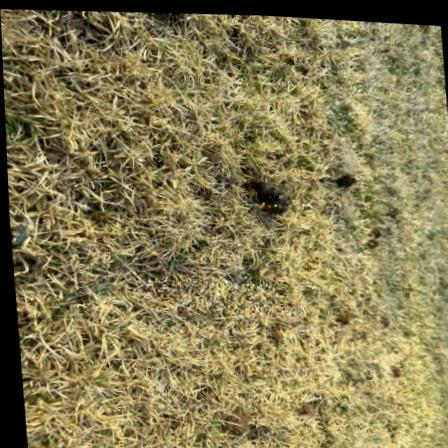dog-poop: (250, 179, 297, 225)
